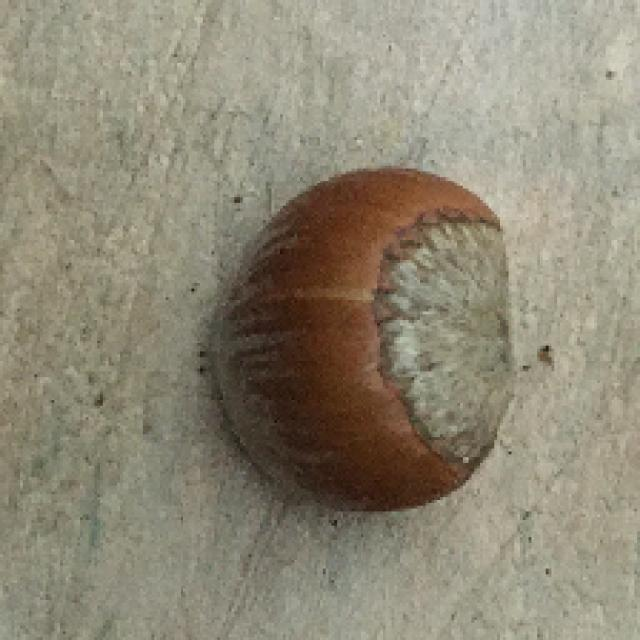qualityHazelnut: (211, 167, 516, 514)
